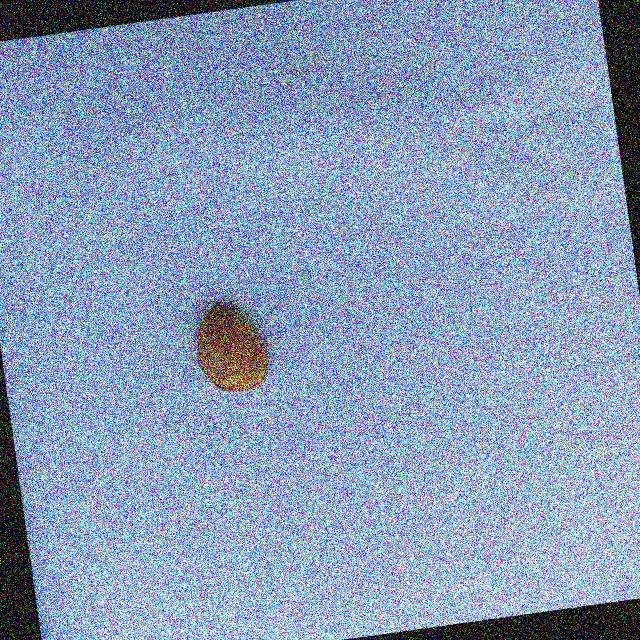grade2: (187, 294, 280, 400)
